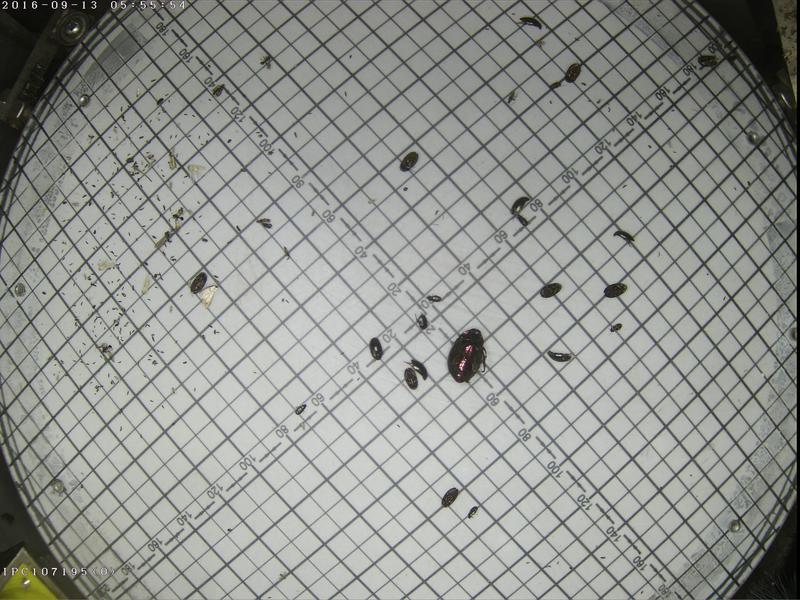Rice Leaf Roller: (199, 281, 220, 307)
